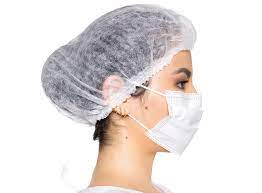with_mask_and_cap: (101, 7, 203, 160)
